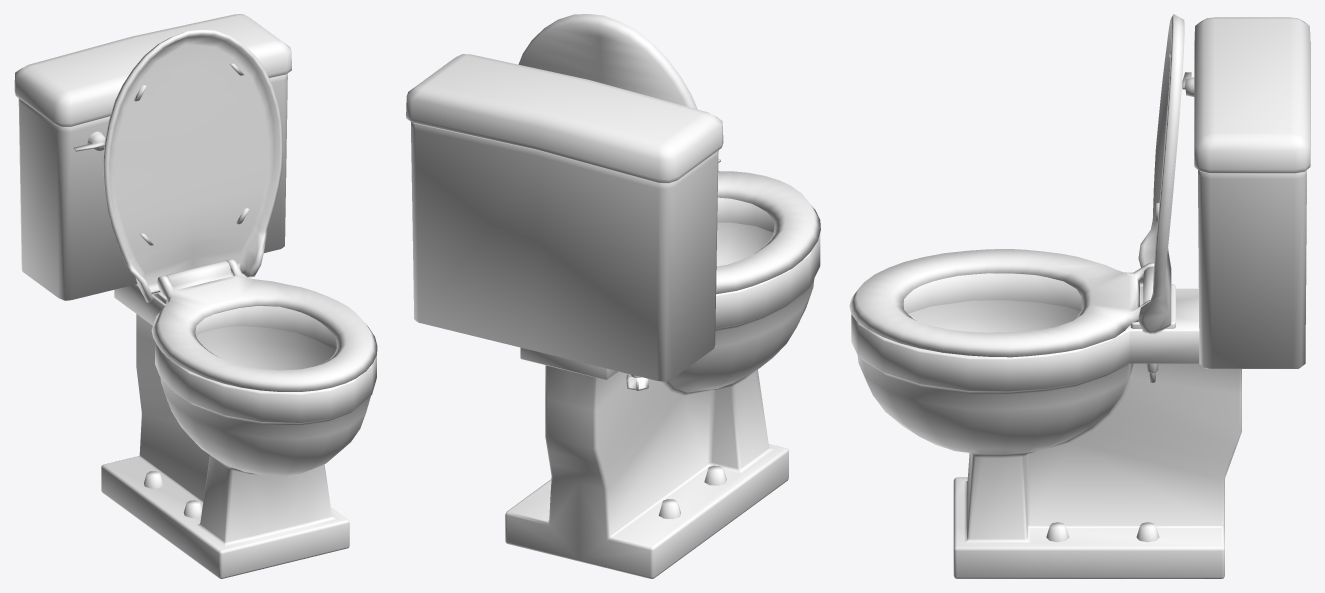
File: Toilet - White.glb
3 renders of one model, left to right at view 1: azimuth 30°, elevation 25°; view 2: azimuth 150°, elevation 25°; view 3: azimuth 270°, elevation 25°, orthographic. The views are drawn at different scales.
Visible parts, largest first — view 1: toiletNew; view 2: toiletNew; view 3: toiletNew.
Part boxes in pixels (x1,y1,x2,y2): toiletNew: (14, 14, 377, 578); toiletNew: (406, 14, 820, 578); toiletNew: (849, 14, 1310, 578).
Bounding box in the file's own units: 0.4625 × 0.8629 × 0.6902.
2 materials, 2 textured.
